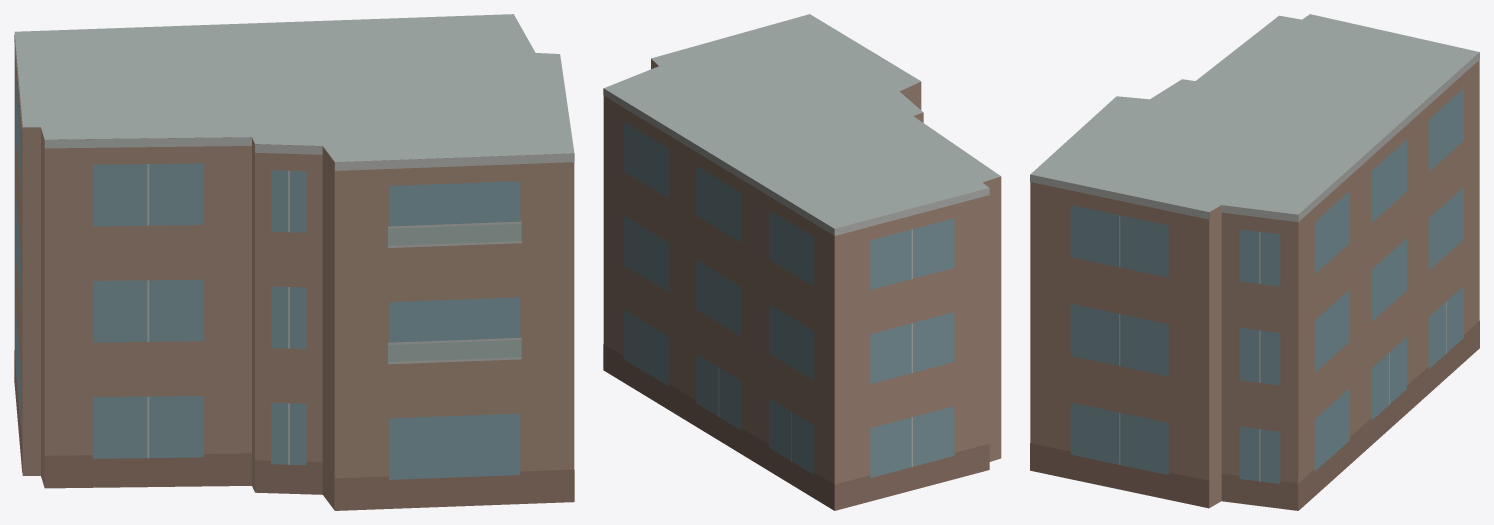
Rendered from survey-upis-32543486.glb.
3 renders of one model, left to right at view 1: azimuth 30°, elevation 25°; view 2: azimuth 150°, elevation 25°; view 3: azimuth 270°, elevation 25°, orthographic. The views are drawn at different scales.
Visible parts, largest first — view 1: survey-upis-32543486.tmp; view 2: survey-upis-32543486.tmp; view 3: survey-upis-32543486.tmp.
Boxes of the visible parts, x1=… form: survey-upis-32543486.tmp: x1=14, y1=14, x2=574, y2=510; survey-upis-32543486.tmp: x1=603, y1=14, x2=1001, y2=510; survey-upis-32543486.tmp: x1=1030, y1=14, x2=1479, y2=510.
Bounding box in the file's own units: 14.04 × 9.65 × 13.29.
